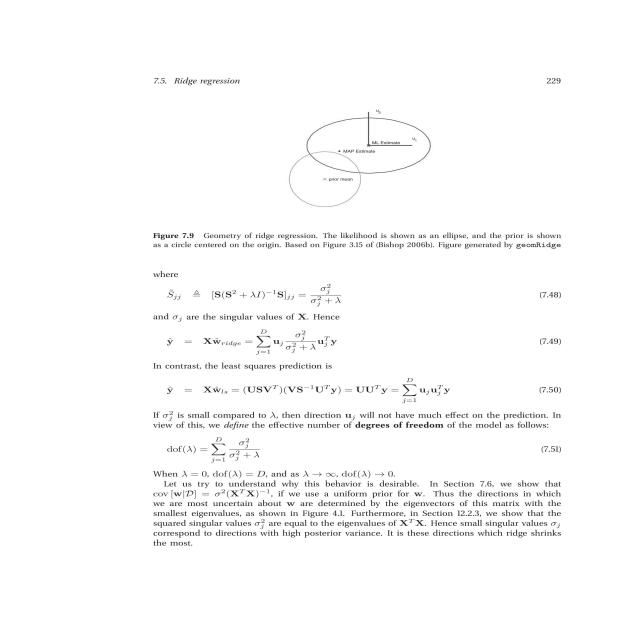diagram: (109, 95, 600, 270)
